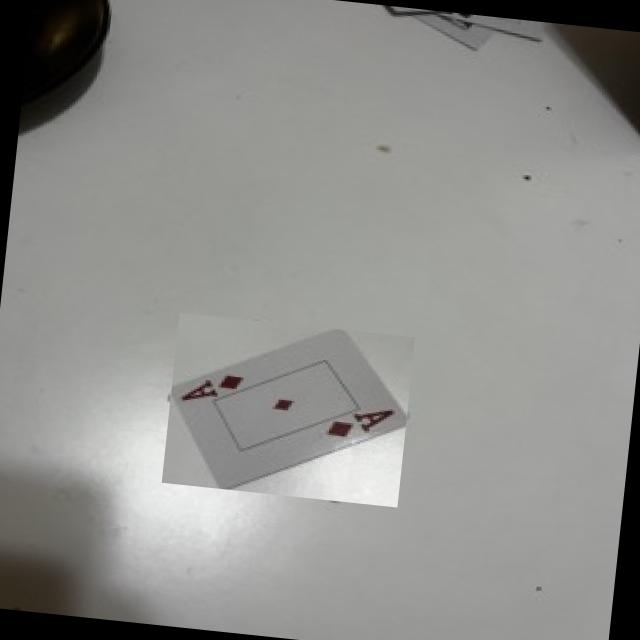Ace of diamonds: (172, 330, 407, 489)
